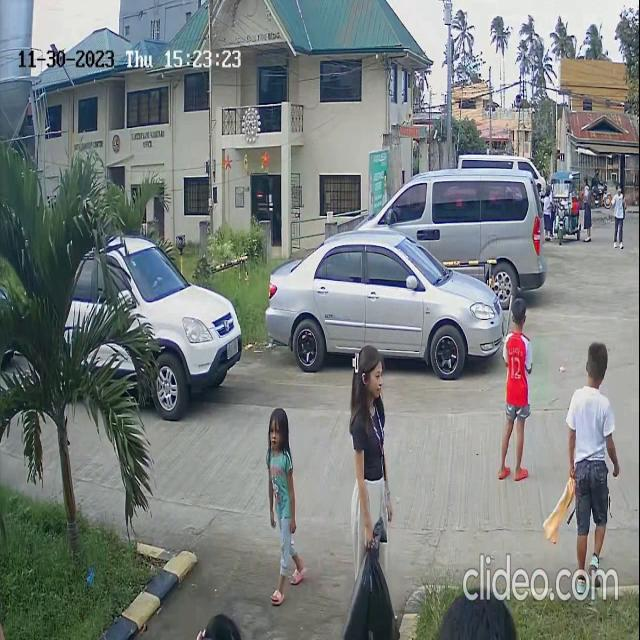garbage: (343, 521, 404, 638)
person: (573, 331, 610, 446), (503, 298, 531, 398), (264, 406, 294, 492), (350, 342, 388, 399), (611, 184, 629, 244), (581, 177, 595, 234)
